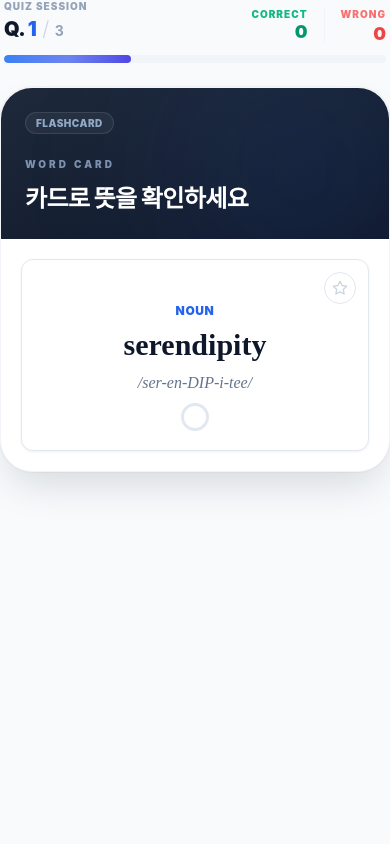
Test: FlashcardQuiz › renders the existing word card inside the shared quiz shell until it is flipped
Expected: the element with test id "flashcard-word-card" is shown, [21, 258, 369, 450]
Expected: the text "noun" is shown, [176, 302, 214, 318]
Click the heading "serendipity": {"x": 195, "y": 344} [124, 326, 266, 362]
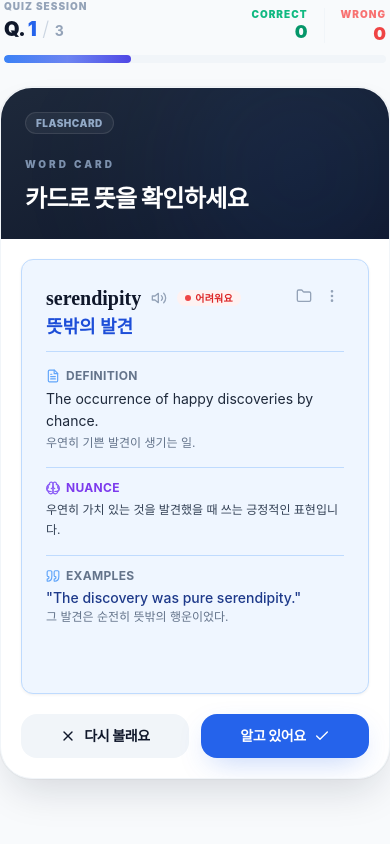
Expected: the heading "뜻밖의 발견" is shown, [46, 316, 133, 336]
Expected: the text "우연히 가치 있는 것을 발견했을 때 쓰는 긍정적인 표현입니다." is shown, [46, 500, 344, 538]
Expected: the text "\"The discovery was pure serendipity.\"" is shown, [46, 588, 344, 607]
